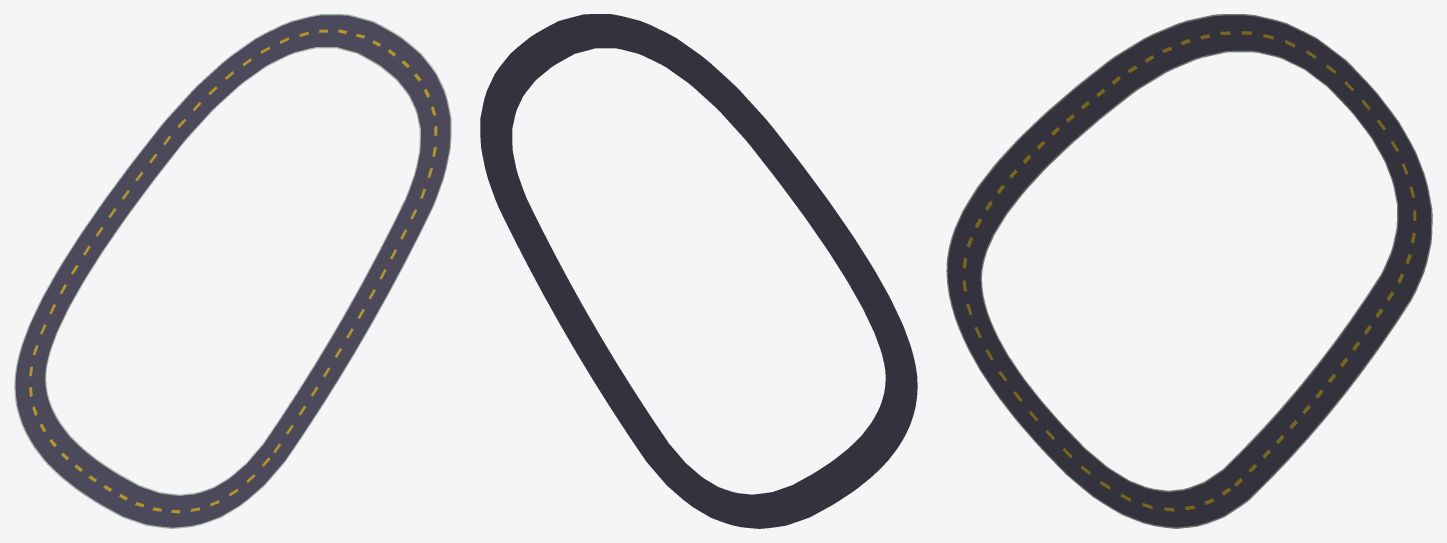
File: track.obj
3 renders of one model, left to right at view 1: azimuth 30°, elevation 25°; view 2: azimuth 150°, elevation 25°; view 3: azimuth 330°, elevation 25°, orthographic. The views are drawn at different scales.
Bounding box in the file's own units: 14.46 × 15.23 × 0.002.
3 materials, 3 textured.
